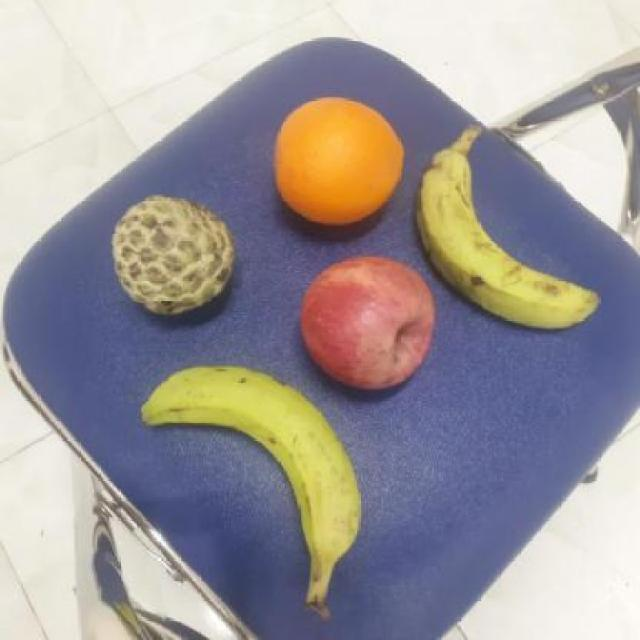apple: (293, 249, 439, 389)
banana: (136, 363, 373, 579), (412, 139, 600, 330)
oren: (269, 91, 408, 228)
sugar apple: (106, 187, 240, 315)
